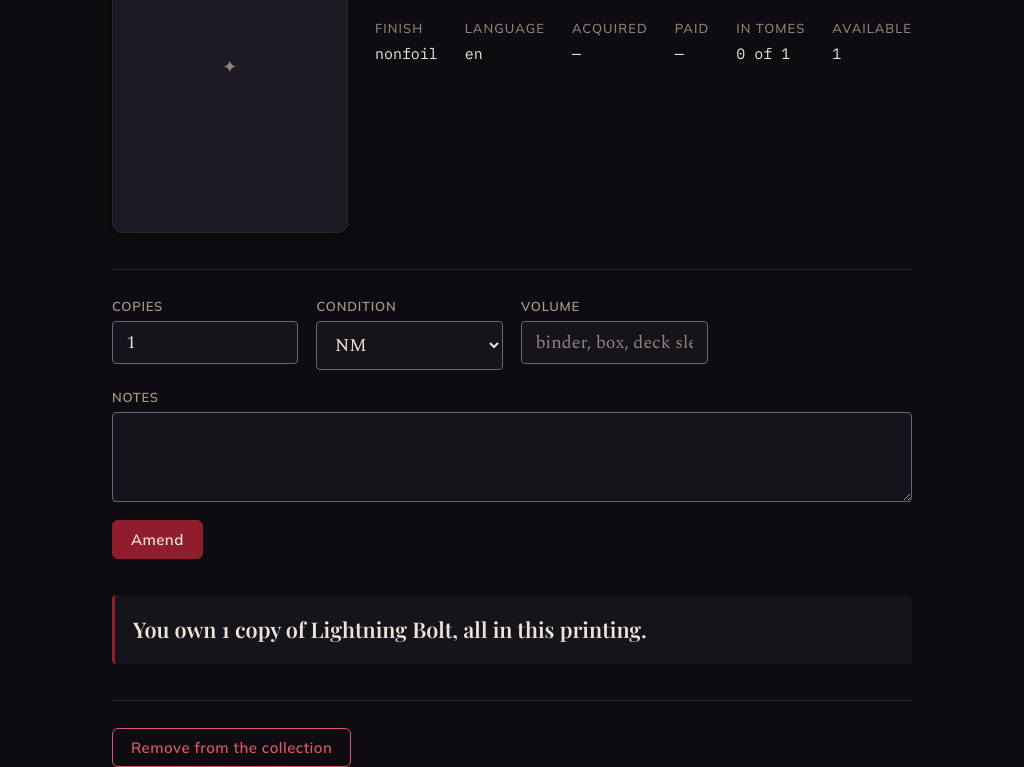
Test case: LotDetailPage › backs out of a removal without deleting anything
(page scrolled)
Click the button "Remove from the collection" at x=232, y=747, box [112,728,351,766]
(page scrolled)
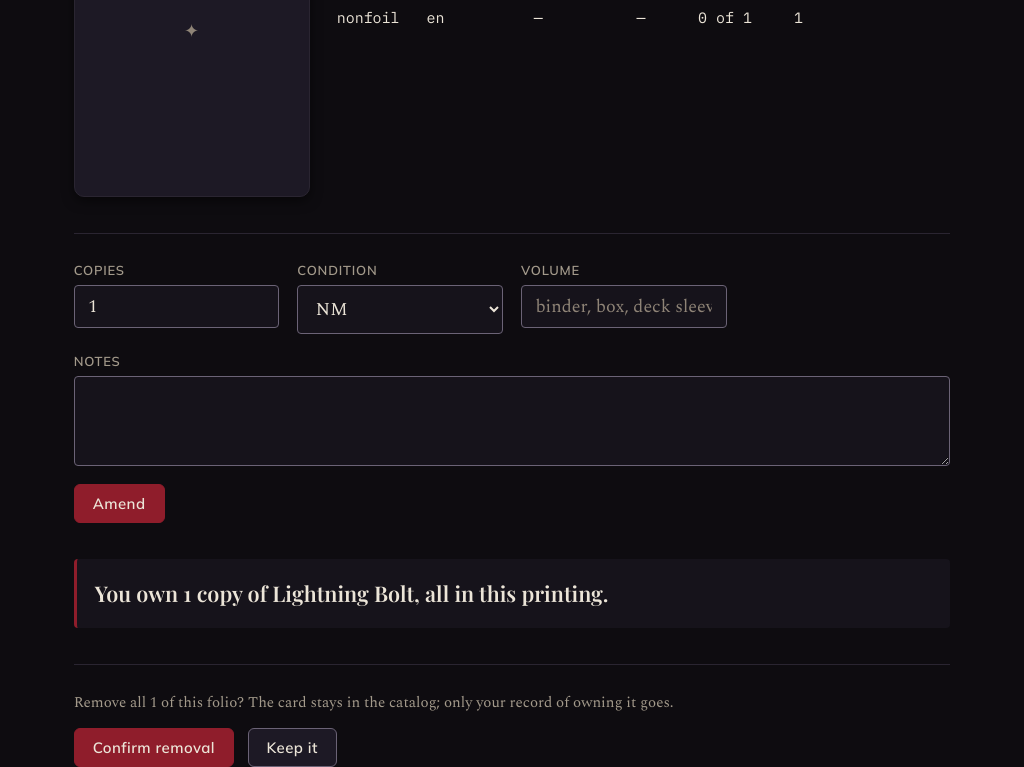
Click the button "Keep it" at x=292, y=747, box [248,728,337,766]
(page scrolled)
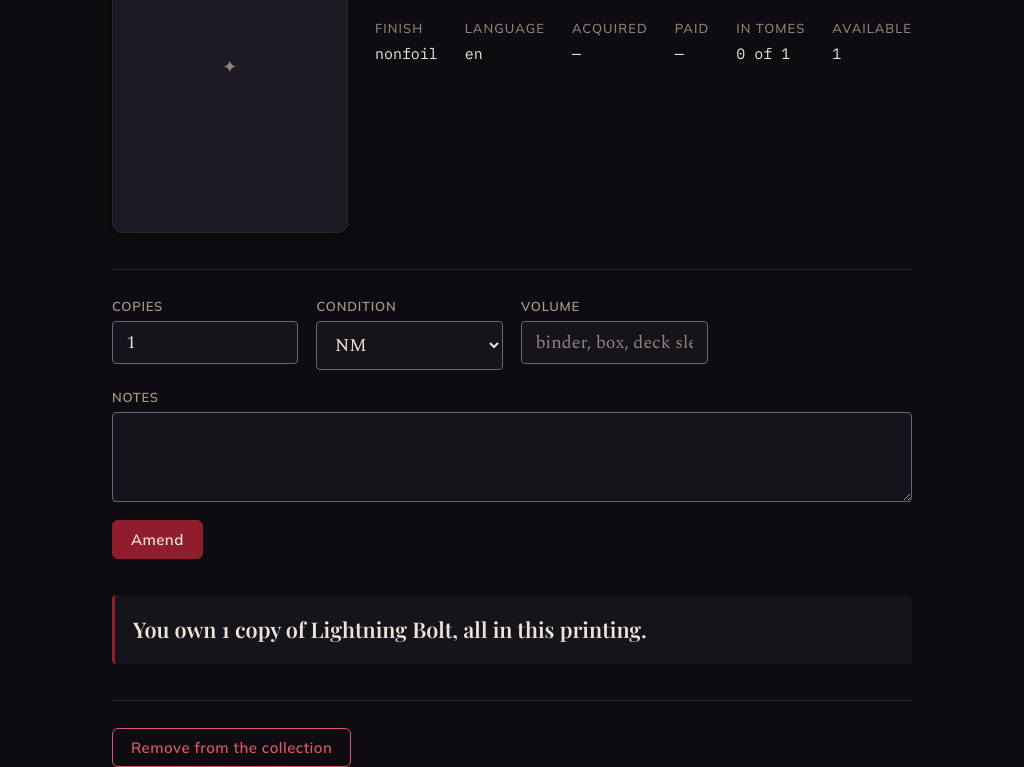
Expected: the button "Remove from the collection" is shown, [112,728,351,766]
